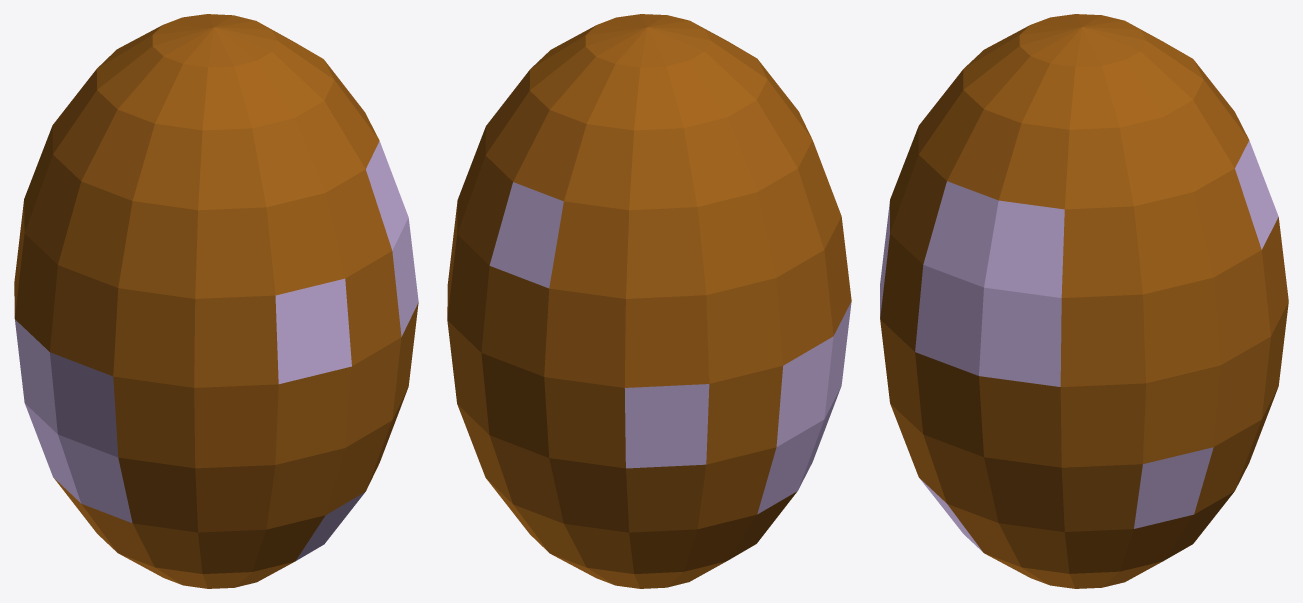
File: T_egg2.fbx
The picture shows the model from 3 angles, left to right: view 1: azimuth 30°, elevation 25°; view 2: azimuth 150°, elevation 25°; view 3: azimuth 270°, elevation 25°; orthographic projection.
Visible parts, largest first — view 1: Sphere.001; view 2: Sphere.001; view 3: Sphere.001.
Part boxes in pixels (x1,y1,x2,y2): Sphere.001: (14,14,418,588); Sphere.001: (447,14,851,588); Sphere.001: (880,14,1288,588).
Size of the model in its own units: 60.23 by 90.01 by 60.74.
